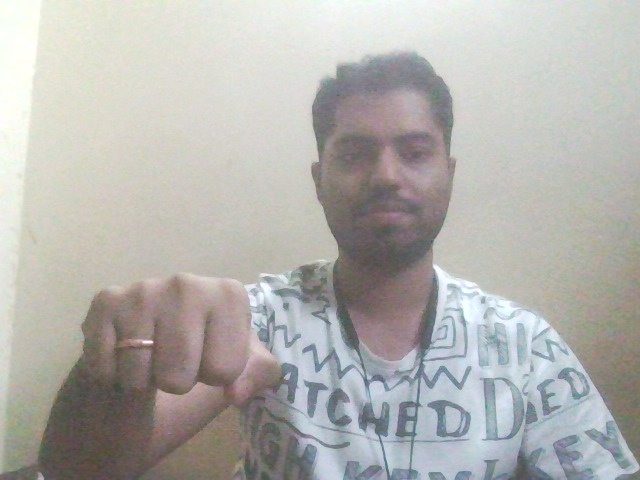Thanks: (66, 250, 297, 426)
